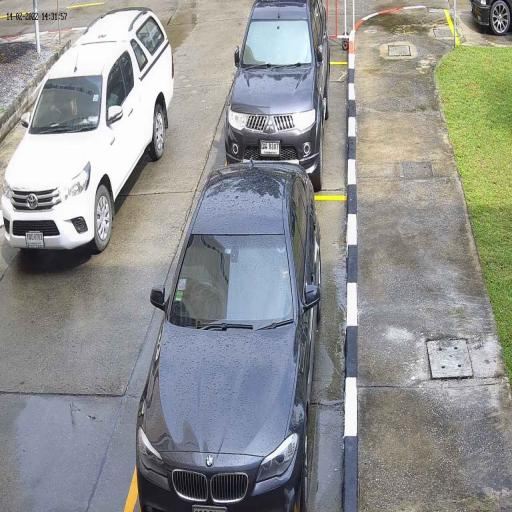car: (136, 160, 322, 512), (1, 8, 175, 252), (224, 0, 331, 190)
